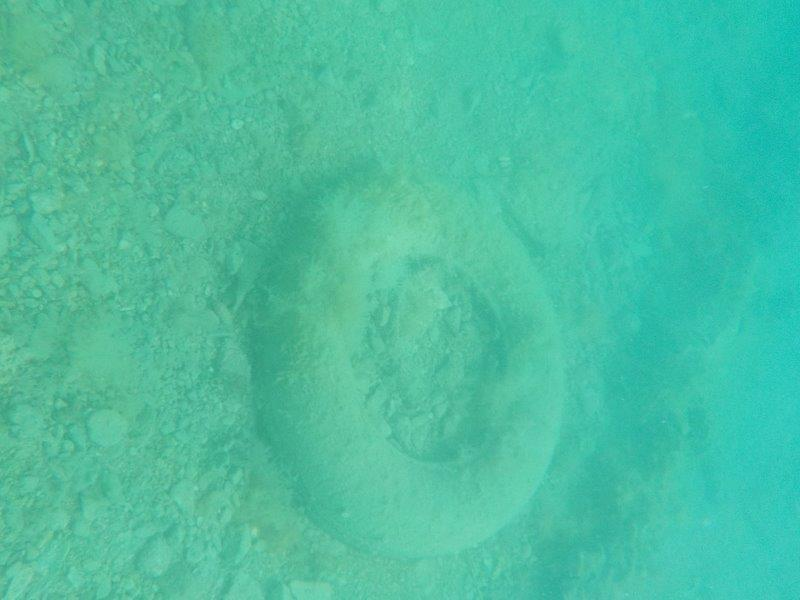tire: (247, 167, 567, 563)
